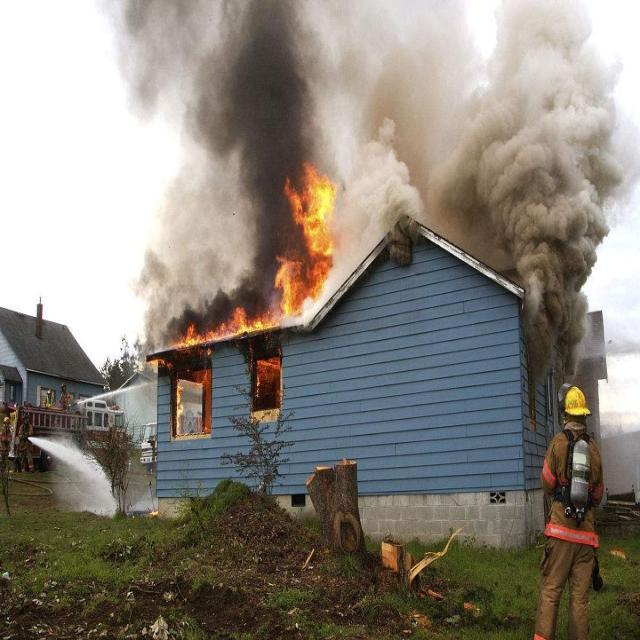Fire: (276, 168, 335, 316)
Smoke: (123, 0, 634, 169), (491, 167, 626, 360), (136, 168, 276, 314), (339, 167, 492, 246)
